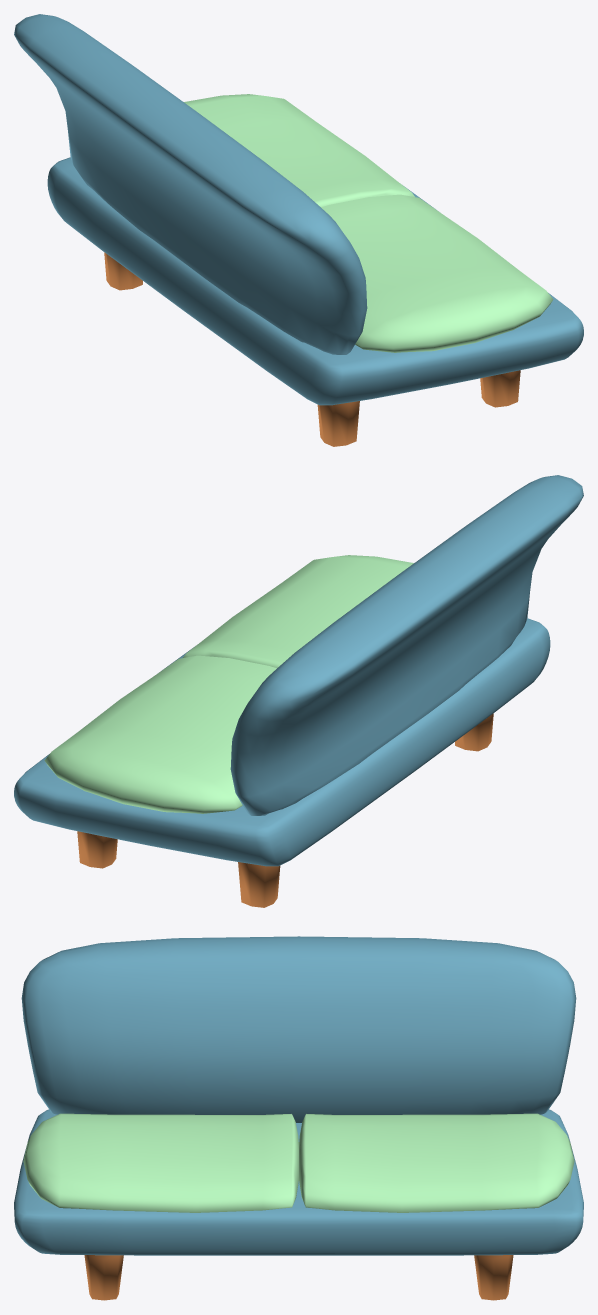
The model's file is SM_Canape.fbx.
3 views of the same model, one above another, from view 1: azimuth 30°, elevation 25°; view 2: azimuth 150°, elevation 25°; view 3: azimuth 270°, elevation 25° (orthographic). The views are drawn at different scales.
Parts seen in each view (by area): view 1: Cube.009; view 2: Cube.009; view 3: Cube.009.
Part boxes in pixels (left/top/right/bottom): Cube.009: left=14, top=14, right=583, bottom=446; Cube.009: left=14, top=475, right=583, bottom=907; Cube.009: left=14, top=936, right=583, bottom=1300.
Size of the model in its own units: 353 by 200 by 171.
